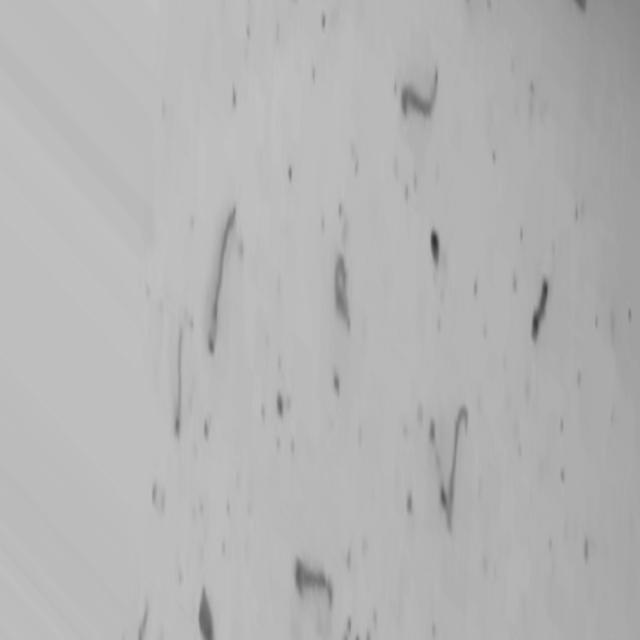larvas: (206, 200, 236, 356), (446, 406, 472, 514), (397, 72, 442, 115), (427, 416, 447, 503), (294, 560, 342, 596), (172, 335, 186, 444), (335, 260, 354, 322), (532, 281, 550, 336)
